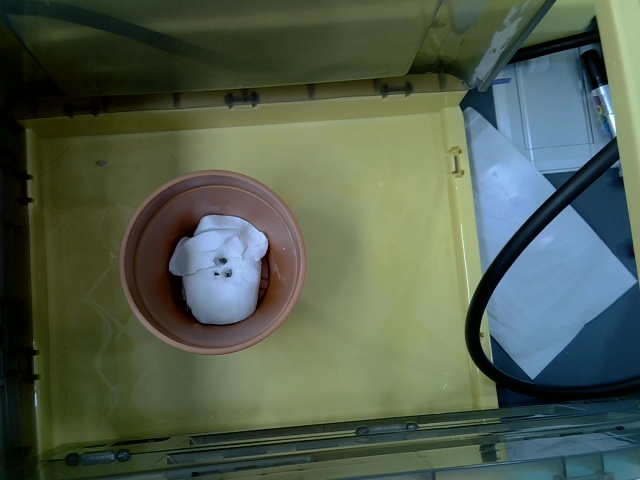화분: (119, 169, 306, 356)
